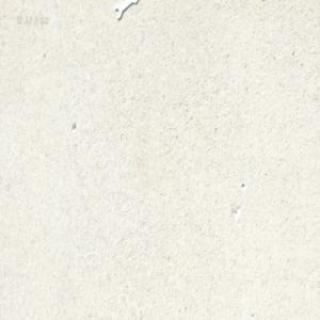Wrenchtrack_idkeyframe: (114, 0, 138, 19)
